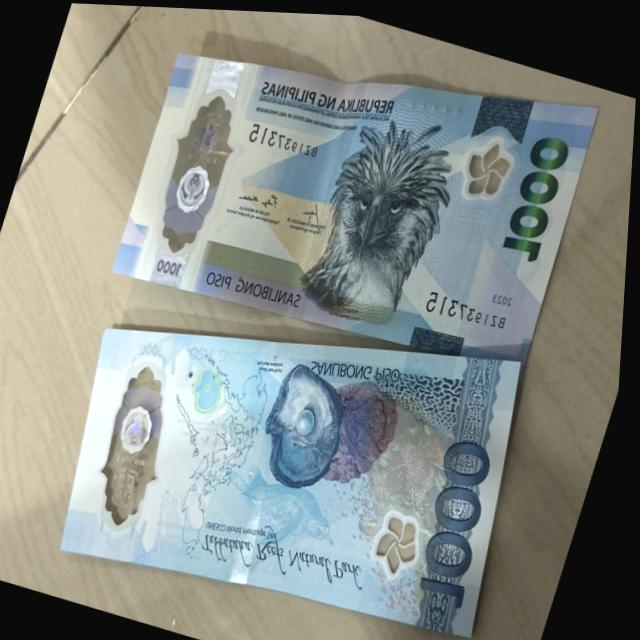clear_window: (79, 343, 198, 530), (144, 77, 253, 270)
sampaguita: (451, 125, 526, 211), (372, 496, 432, 579)
value: (408, 422, 516, 611)
